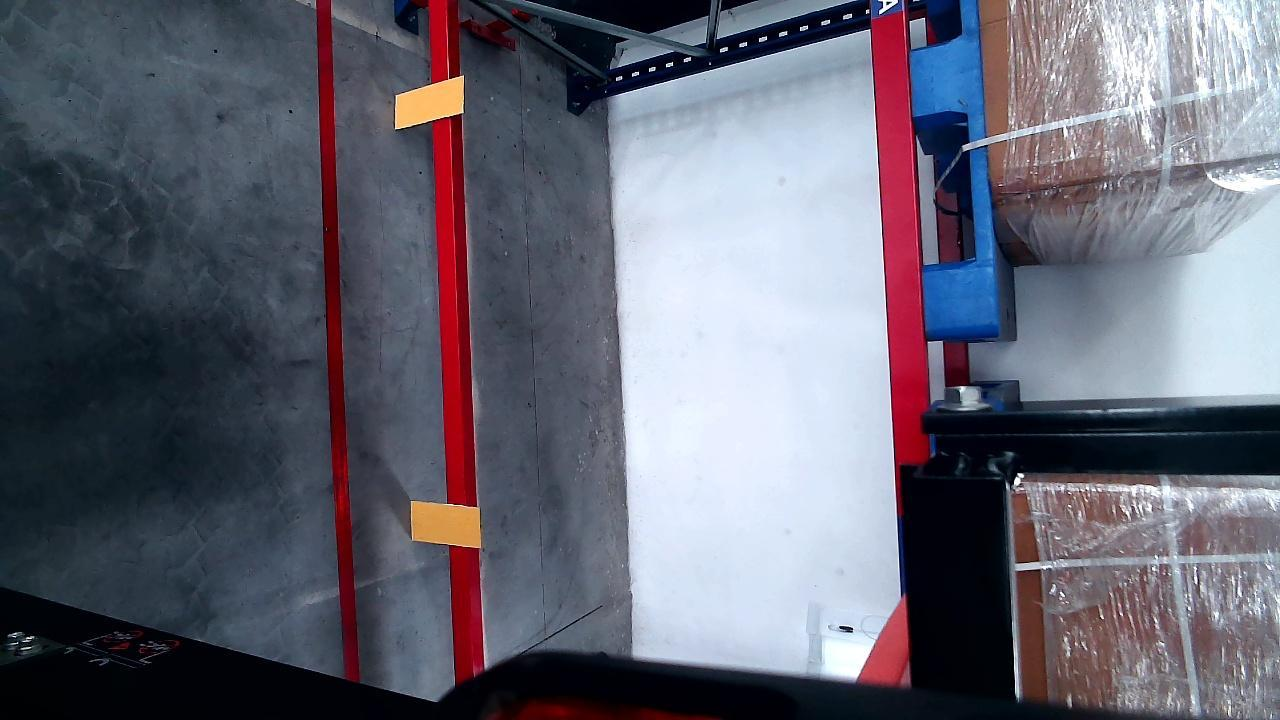red_line: (317, 0, 359, 694)
